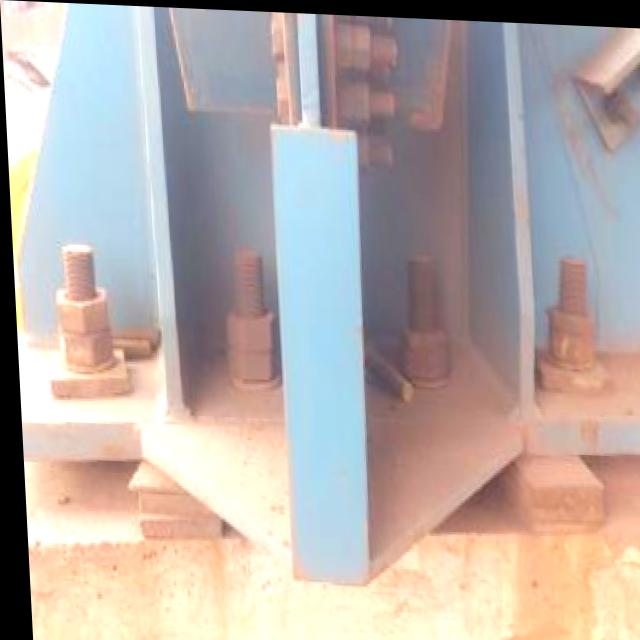Rusty bolt: (49, 236, 112, 368), (384, 274, 462, 379), (534, 264, 631, 344)
